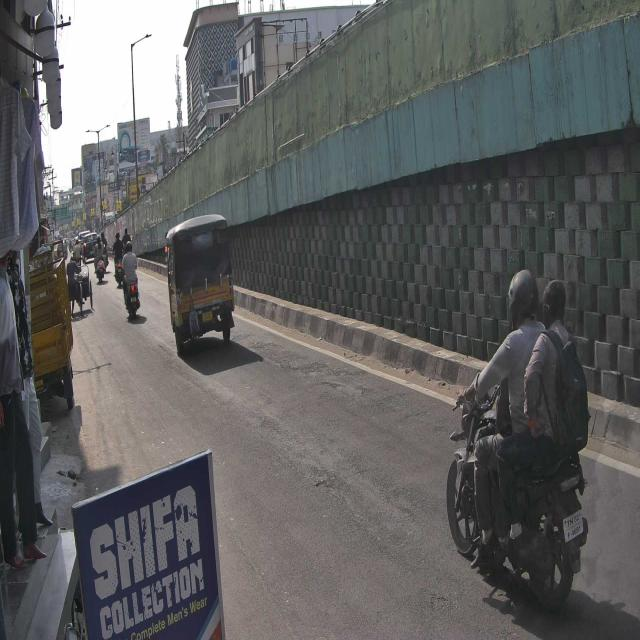double_rider: (446, 269, 590, 612)
